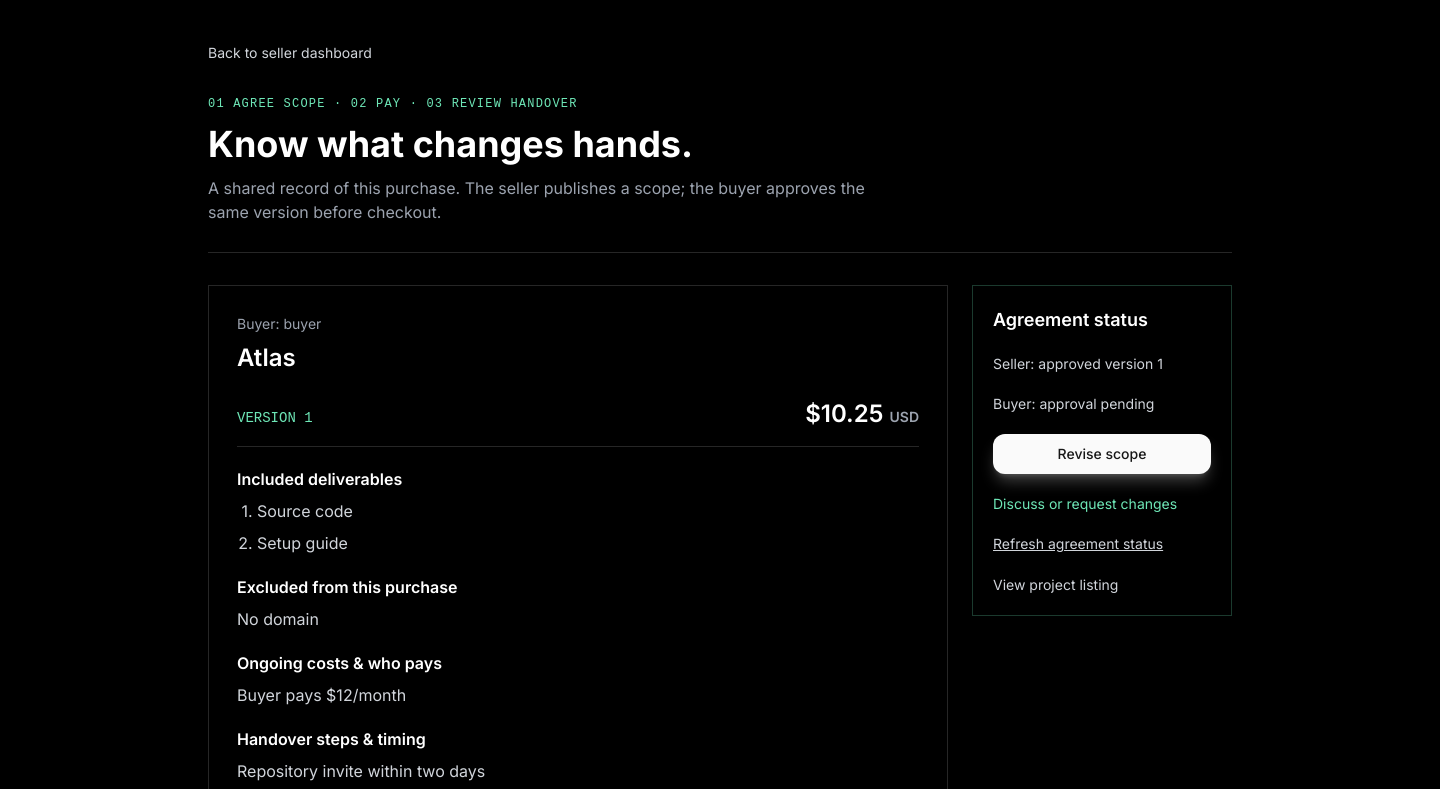
Test: a failed revision retains the entered scope and repeated submission is prevented
Expected: the list item "Source code" is shown, [257,501,353,521]
Click the button "Revise scope" at point(1102, 454), box [993,434,1211,474]
(page scrolled)
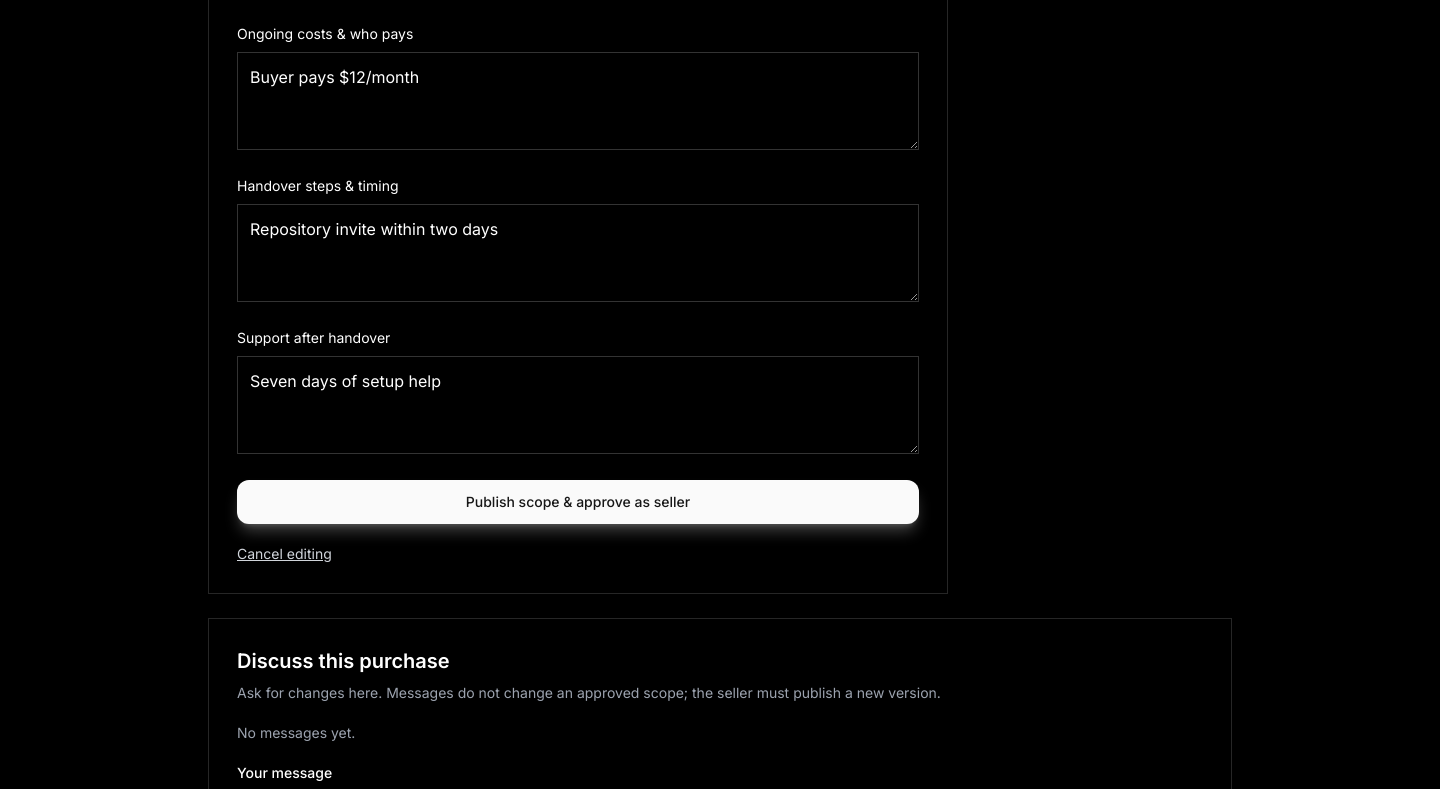
Replace the text in the text box labelled "Support after handover" with "Two weeks of support" at point(578, 405), box [237,356,919,454]
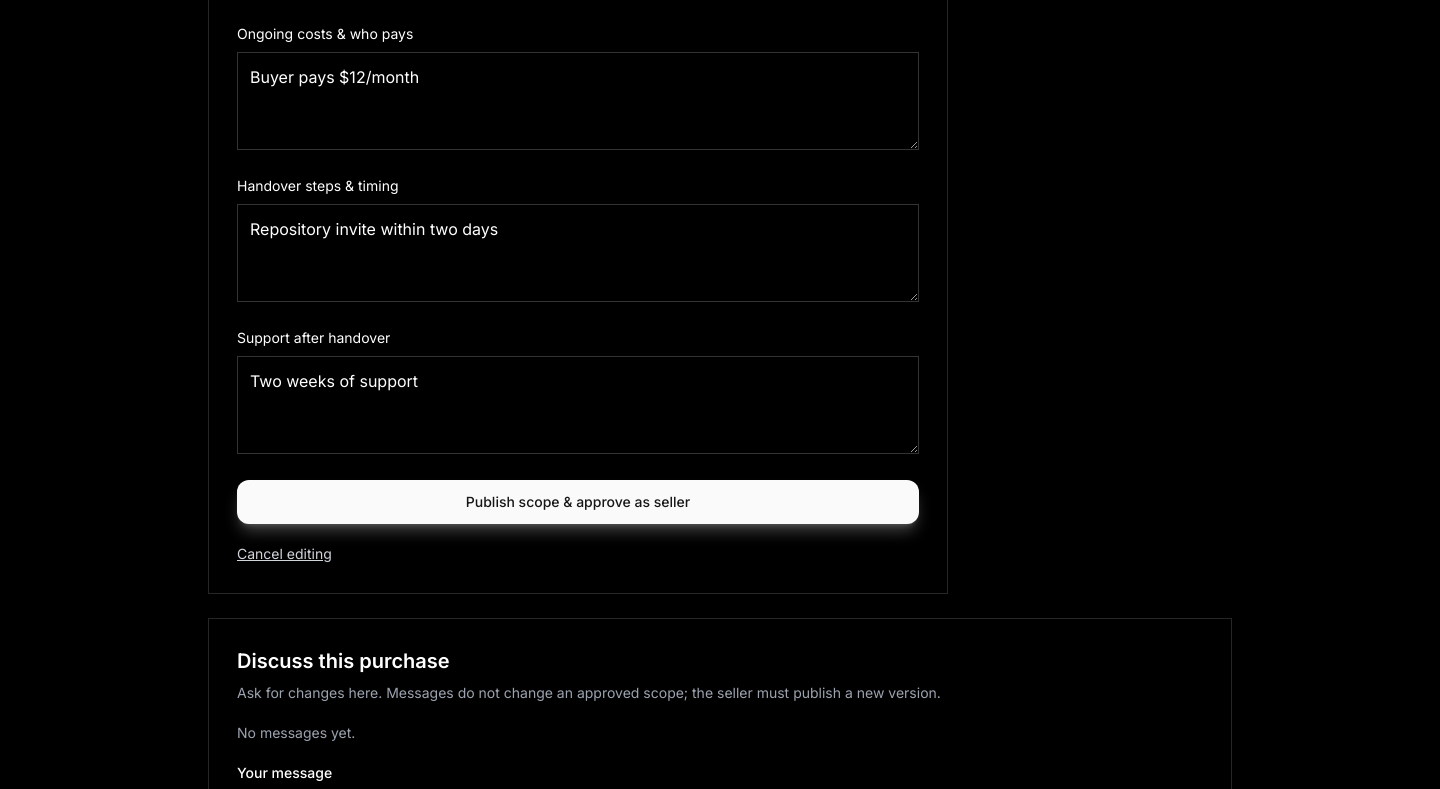
Click the button "Publish scope & approve as seller" at point(578, 502), box [237,480,919,524]
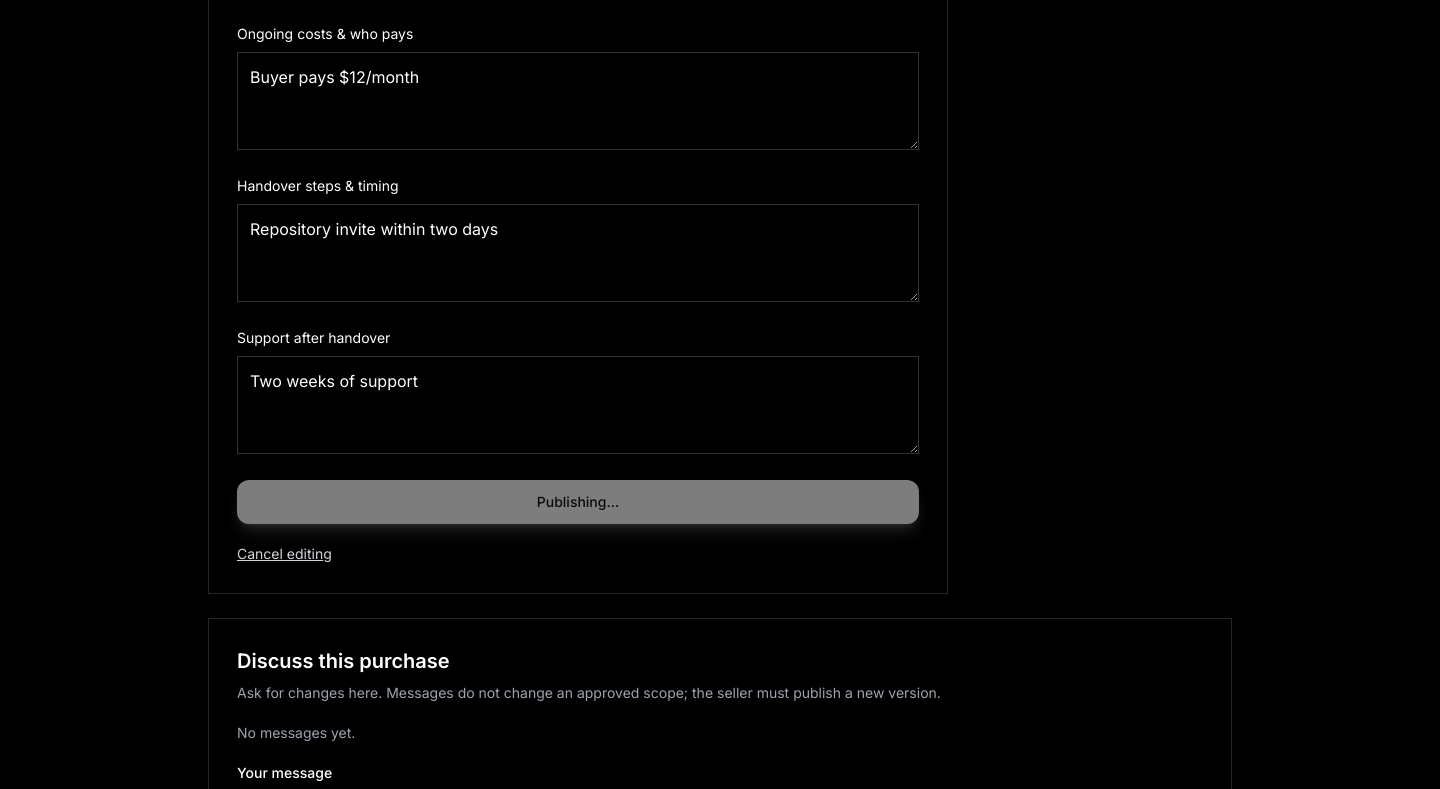
Click the button "Publishing…" at point(578, 502), box [237,480,919,524]
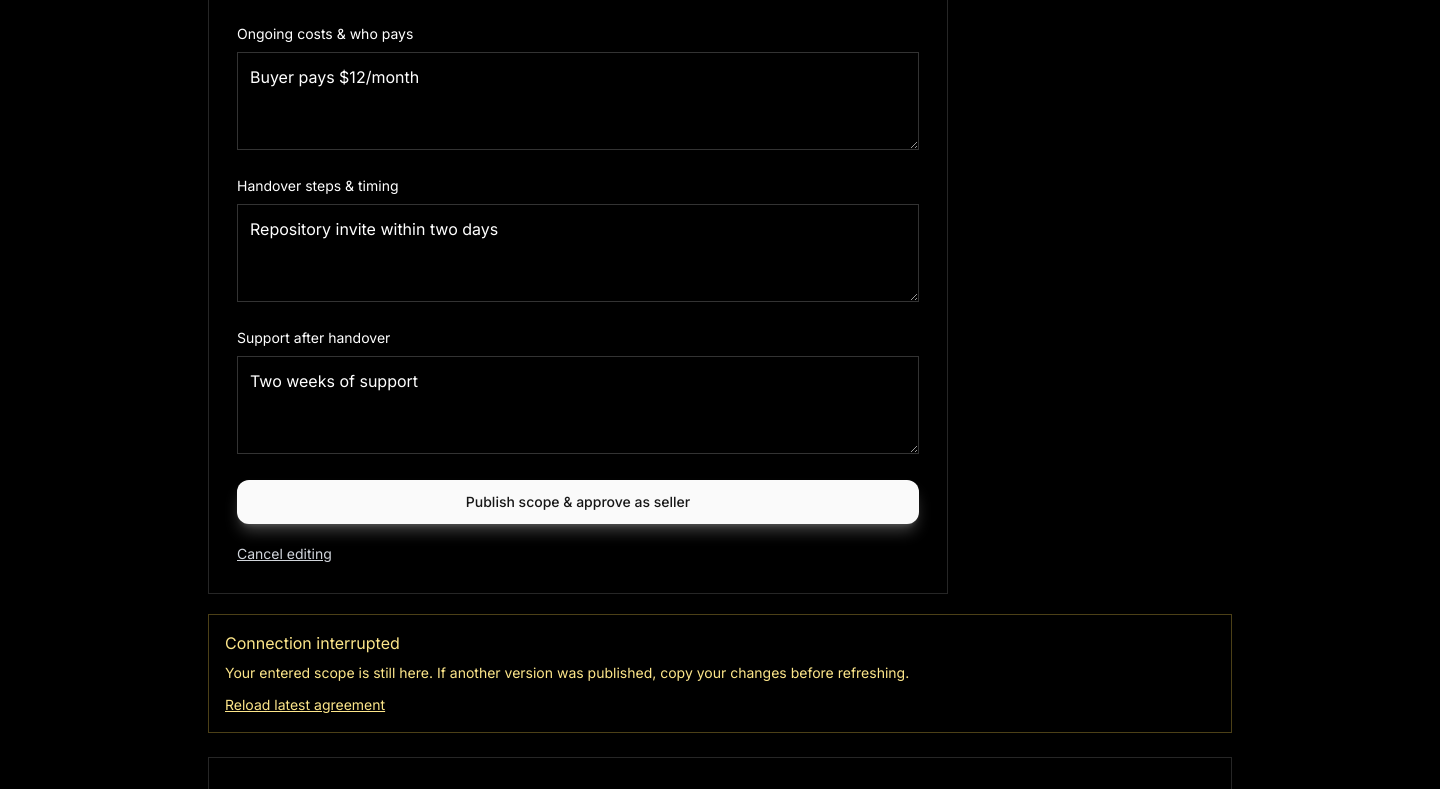
Now the message shows "Connection interrupted", box [225,633,400,653]
